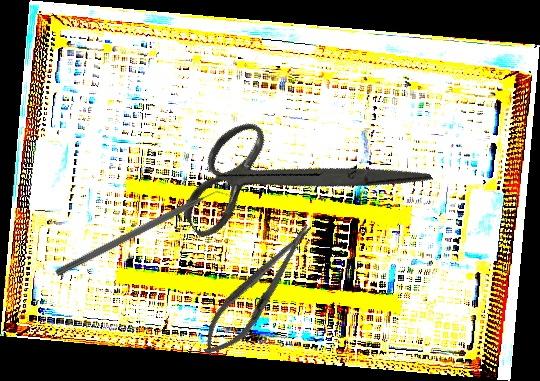Chopper: (54, 182, 235, 286)
Iris Scissors: (158, 49, 435, 311)
Needle Holder: (191, 214, 326, 366)
